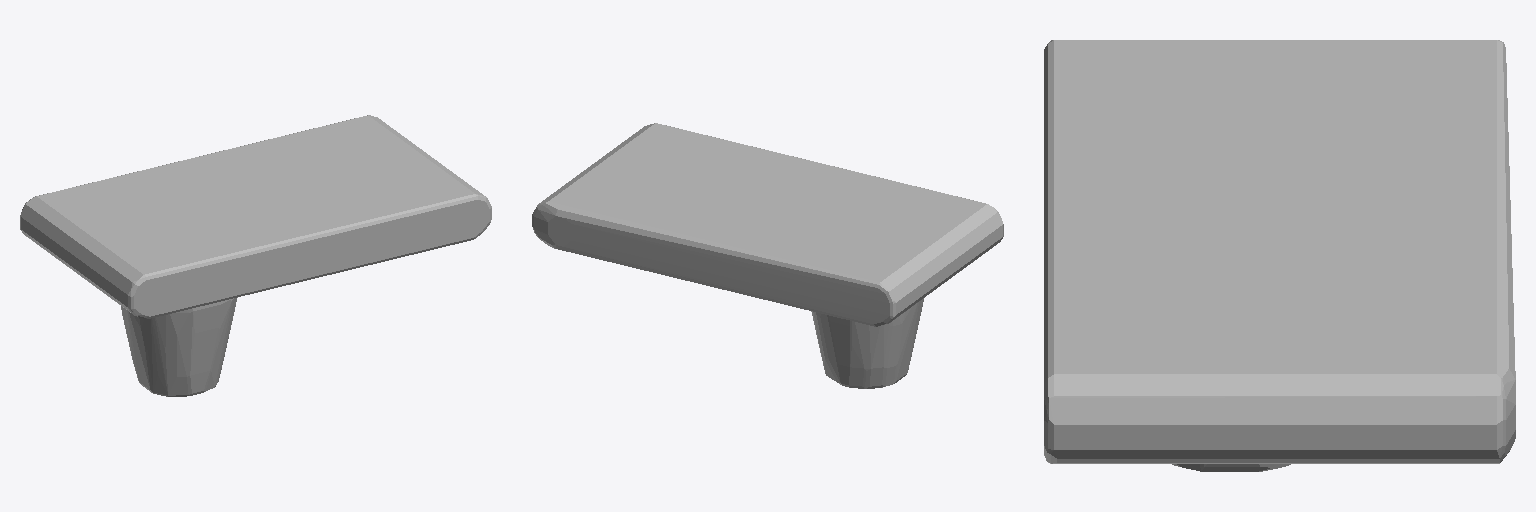
robot.urdf — root:
<robot name="root">
  <link name="link_coacd_convex_piece_0">
    <inertial>
      <origin xyz="0 0 0" rpy="0 0 0"/>
      <inertia ixx="2.12E-02" ixy="3.40E-03" ixz="2.05E-04" iyy="6.69E-02" iyz="9.71E-04" izz="5.67E-02"/>
    </inertial>
    <visual>
      <origin xyz="0 0 0" rpy="0 0 0"/>
      <geometry>
        <mesh filename="coacd_convex_piece_0.obj" scale="1.0000E+00 1.0000E+00 1.0000E+00"/>
      </geometry>
      <material name="">
        <color rgba="7.50E-01 7.50E-01 7.50E-01 1"/>
      </material>
    </visual>
    <collision>
      <origin xyz="0 0 0" rpy="0 0 0"/>
      <geometry>
        <mesh filename="coacd_convex_piece_0.obj" scale="1.0000E+00 1.0000E+00 1.0000E+00"/>
      </geometry>
    </collision>
  </link>
  <link name="link_coacd_convex_piece_1">
    <inertial>
      <origin xyz="0 0 0" rpy="0 0 0"/>
      <inertia ixx="2.08E-04" ixy="2.23E-03" ixz="-1.79E-03" iyy="9.62E-03" iyz="6.21E-04" izz="7.88E-03"/>
    </inertial>
    <visual>
      <origin xyz="0 0 0" rpy="0 0 0"/>
      <geometry>
        <mesh filename="coacd_convex_piece_1.obj" scale="1.0000E+00 1.0000E+00 1.0000E+00"/>
      </geometry>
      <material name="">
        <color rgba="7.50E-01 7.50E-01 7.50E-01 1"/>
      </material>
    </visual>
    <collision>
      <origin xyz="0 0 0" rpy="0 0 0"/>
      <geometry>
        <mesh filename="coacd_convex_piece_1.obj" scale="1.0000E+00 1.0000E+00 1.0000E+00"/>
      </geometry>
    </collision>
  </link>
  <joint name="link_coacd_convex_piece_1_joint" type="fixed">
    <origin xyz="0 0 0" rpy="0 0 0"/>
    <parent link="link_coacd_convex_piece_0"/>
    <child link="link_coacd_convex_piece_1"/>
  </joint>
</robot>

--- Render facts (derived) ---
The picture shows the robot from 3 angles, left to right: view 1: azimuth 30°, elevation 25°; view 2: azimuth 150°, elevation 25°; view 3: azimuth 270°, elevation 25°; orthographic projection.
Robot: root — 2 links, 1 joints (1 fixed); root link link_coacd_convex_piece_0; default pose: all joints at 0.
Links seen in each view (by area): view 1: link_coacd_convex_piece_0, link_coacd_convex_piece_1; view 2: link_coacd_convex_piece_0, link_coacd_convex_piece_1; view 3: link_coacd_convex_piece_0, link_coacd_convex_piece_1.
Link boxes in pixels (box(x1,y1,x2,y2)): link_coacd_convex_piece_0: box(20, 115, 491, 318); link_coacd_convex_piece_1: box(121, 297, 237, 396); link_coacd_convex_piece_0: box(532, 123, 1003, 326); link_coacd_convex_piece_1: box(811, 298, 923, 388); link_coacd_convex_piece_0: box(1044, 40, 1515, 463); link_coacd_convex_piece_1: box(1172, 464, 1290, 471).
Bounding box of the posed robot: 1.66 × 0.9022 × 0.6857 m (x, y, z).
Meshes: 2 distinct files referenced, 2 mesh visuals loaded (2 OBJ).
